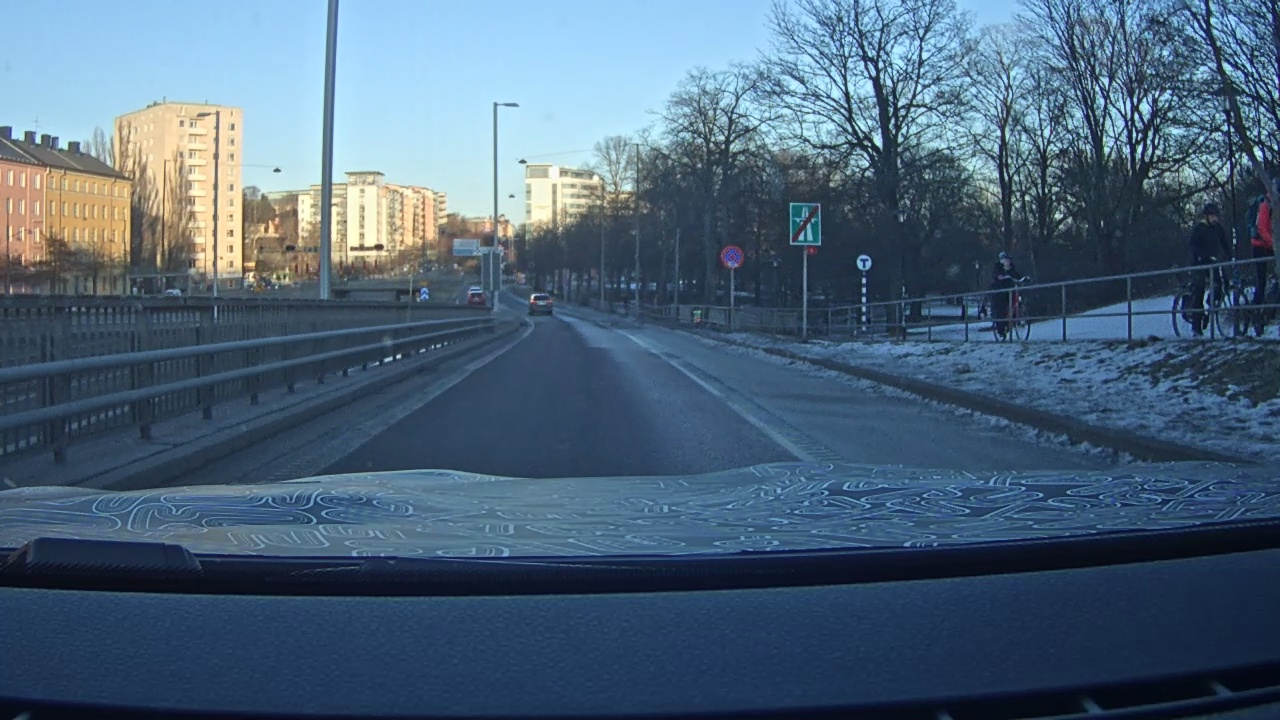Regular_End_Of_Motorway: (787, 202, 822, 248)
